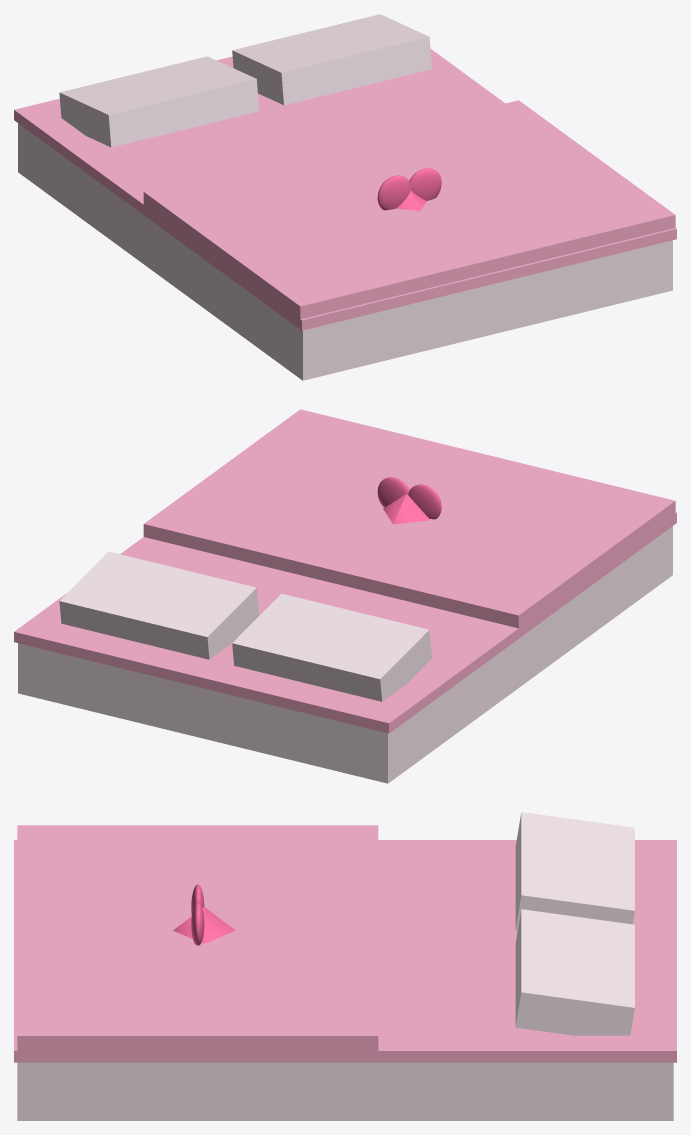
Rendered from mattress_cute_0.glb.
The picture shows the model from 3 angles, top to bottom: view 1: azimuth 30°, elevation 25°; view 2: azimuth 150°, elevation 25°; view 3: azimuth 270°, elevation 25°; orthographic projection. The views are drawn at different scales.
Size of the model in its own units: 1.52 by 0.41 by 2.02.
